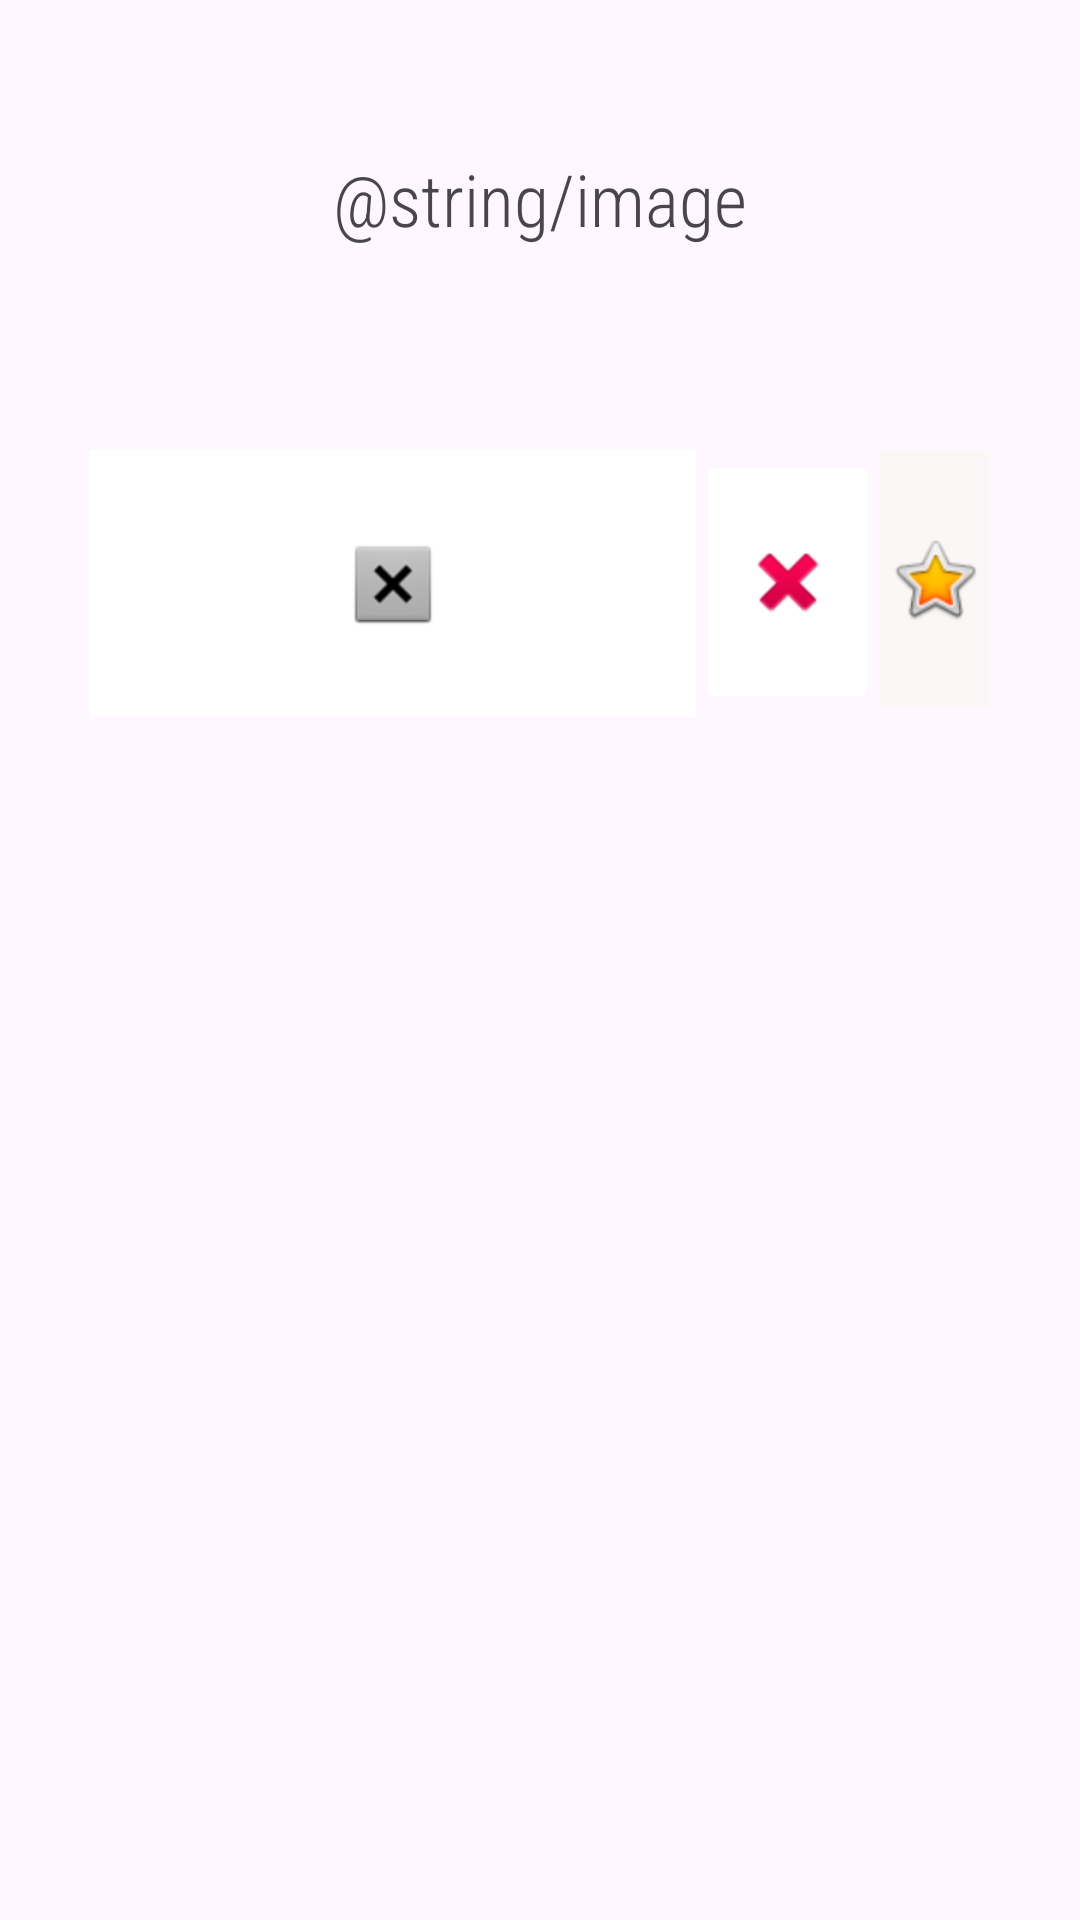

Icon click points for this 1080 x 1920 phone screenshot, format point (x, y):
delete: point (788, 582)
star on: point (936, 580)
